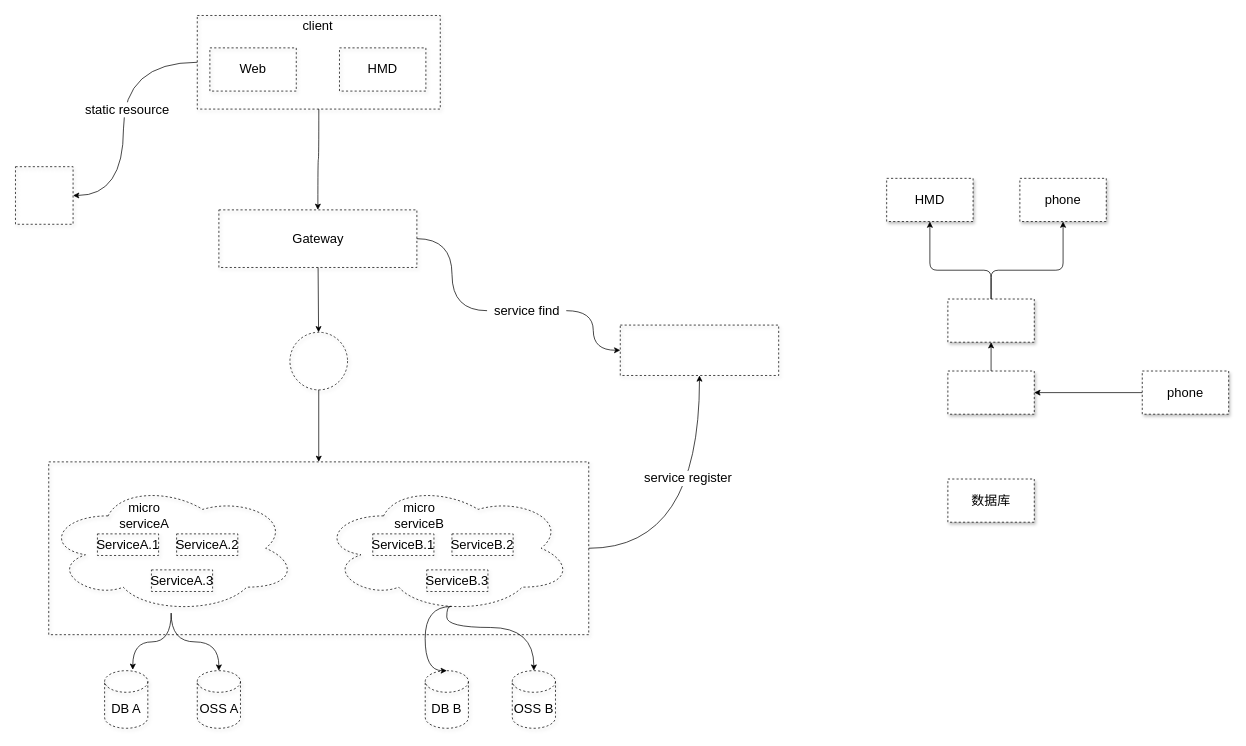
The diagram is 1246 pixels wide and 746 high, and some of its shapes have lost their labels. Each missing label, with the centre of its shape:
"CDN" goes at (44,196).
"Check" goes at (991,321).
"Contents" goes at (991,393).
"service monitor center" goes at (700,351).
"SLB" goes at (319,362).
